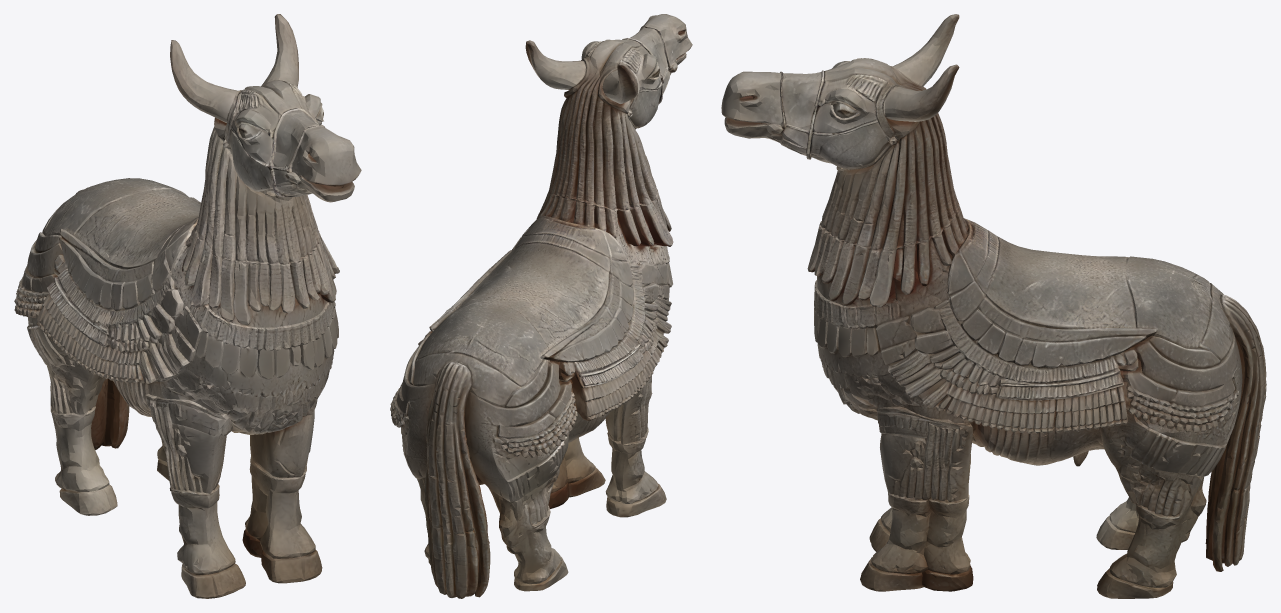
File: lamassu_body_rodin_source.glb
3 renders of one model, left to right at view 1: azimuth 30°, elevation 25°; view 2: azimuth 150°, elevation 25°; view 3: azimuth 270°, elevation 25°, orthographic. The views are drawn at different scales.
Visible parts, largest first — view 1: model; view 2: model; view 3: model.
Part boxes in pixels (x1,y1,x2,y2): model: [14, 14, 361, 598]; model: [390, 14, 692, 598]; model: [721, 14, 1266, 598].
Bounding box in the file's own units: 0.7975 × 1.91 × 1.78.
Materials: 1 (1 with a texture image).
